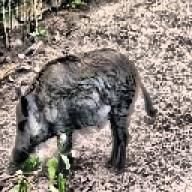boar: (10, 46, 156, 172)
